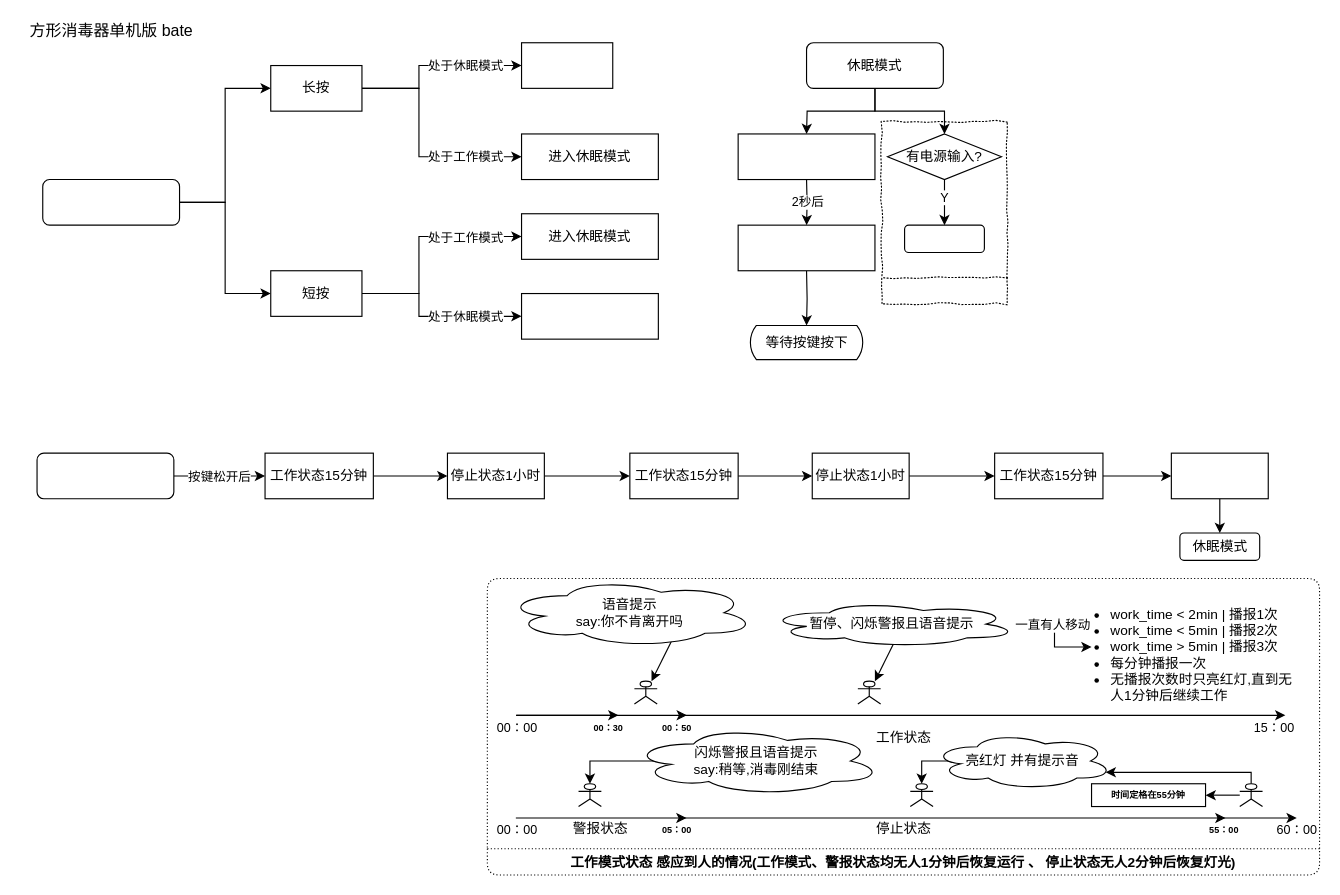
This 1340x895 diagram has some shape labels left out. The shapes that lost their labels are listed below. From the top down, each one's box as (x1, y1, x2, y2) in pixels, then its label:
(520, 42, 613, 88): 无反应
(737, 133, 875, 180): 关闭高压包、风扇、灯光等
(42, 178, 180, 225): 按键判断
(881, 120, 1007, 304): 实时检测
(737, 224, 875, 271): 进入低功耗
(903, 224, 984, 253): 发送模式
(520, 292, 658, 339): 进入工作模式
(36, 452, 174, 499): 工作模式
(1170, 452, 1268, 499): 停止状态5分钟
